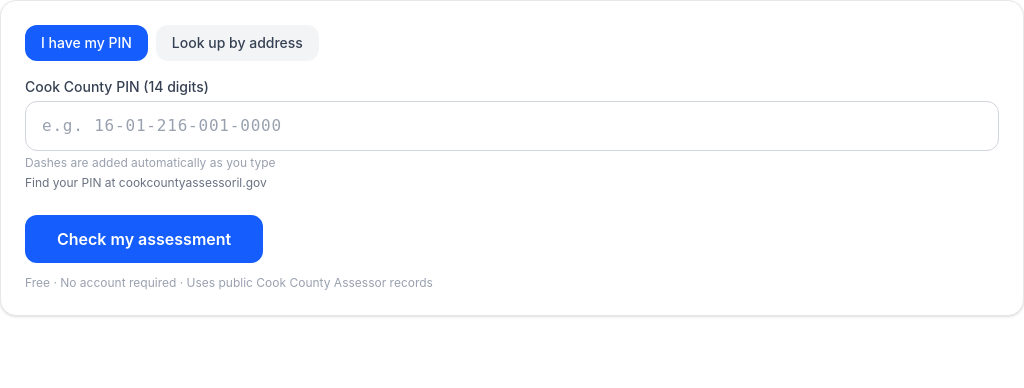
it: free-check funnel across both surfaces › /check page › sends no completion when the request is aborted
Type "16012160010000" into the field labelled "Cook County PIN (14 digits)" at (512, 126), box [25,101,999,151]
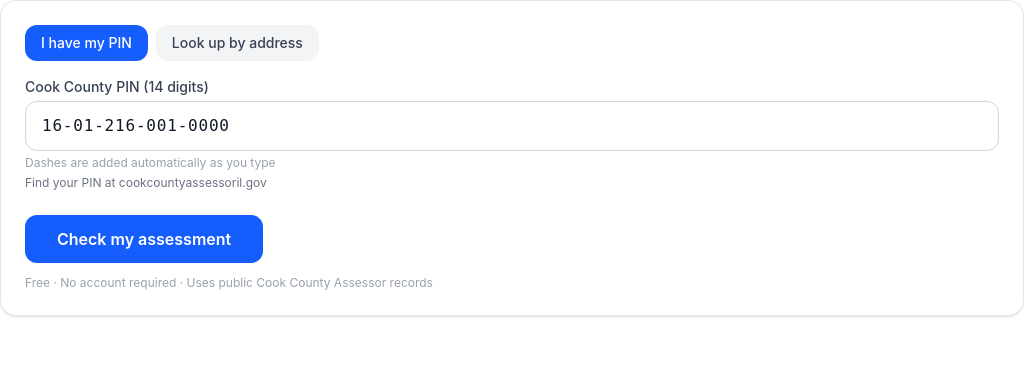
Click the button "Check my assessment" at (144, 239), box [25,215,263,263]
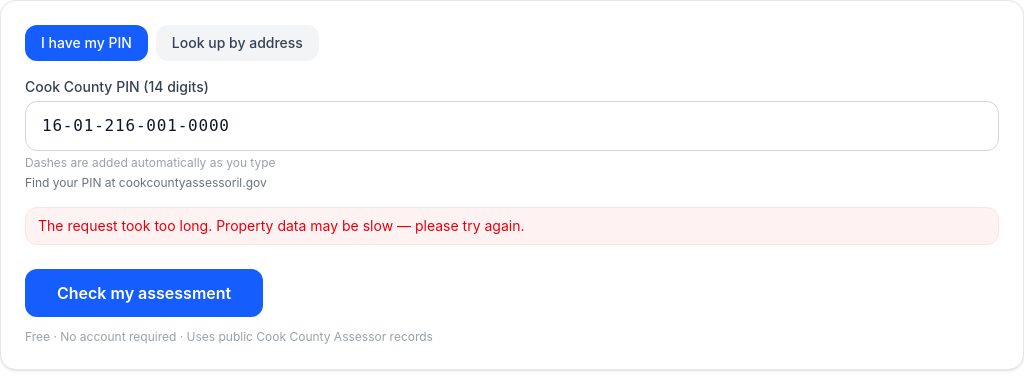
Check: the message "The request took too long. Property data may be slow — please try again." is shown, box [25,207,999,245]
